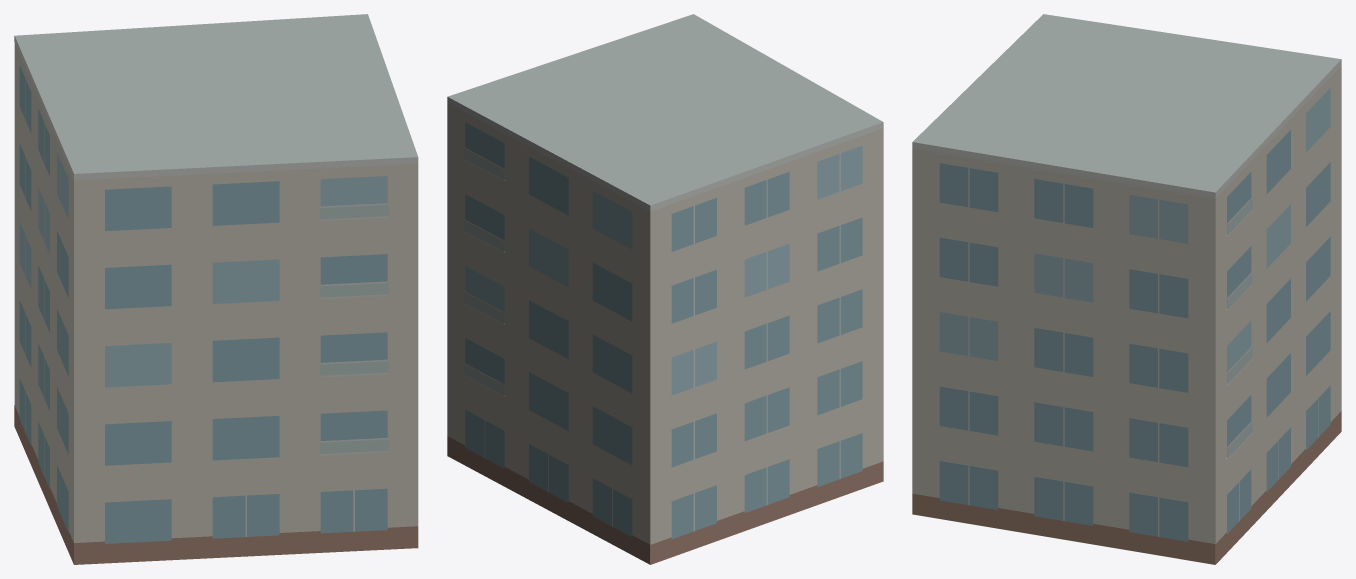
The model's file is survey-upis-32505025.glb.
3 views of the same model, side by side, from view 1: azimuth 30°, elevation 25°; view 2: azimuth 150°, elevation 25°; view 3: azimuth 270°, elevation 25° (orthographic). The views are drawn at different scales.
Visible parts, largest first — view 1: survey-upis-32505025.tmp; view 2: survey-upis-32505025.tmp; view 3: survey-upis-32505025.tmp.
Boxes of the visible parts, <box> form: survey-upis-32505025.tmp: <box>14,14,418,564</box>; survey-upis-32505025.tmp: <box>447,14,883,564</box>; survey-upis-32505025.tmp: <box>912,14,1341,564</box>.
Bounding box in the file's own units: 15.03 × 14.6 × 15.27.
